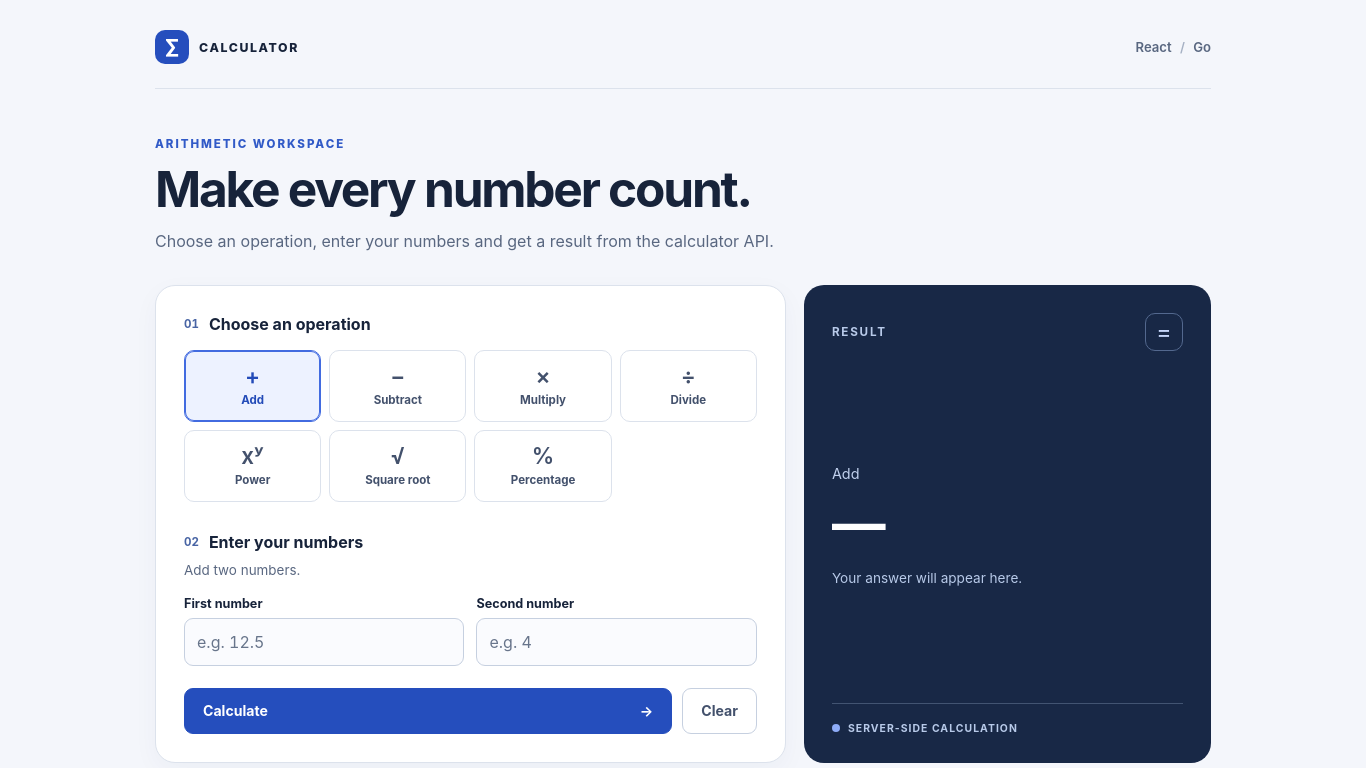
Test: calculator interface › submits two operands and renders the backend result
This screenshot has width=1366, height=768.
Step 1. Type "7.5" into the field labelled "First number" → (324,642), box [184,618,464,666]
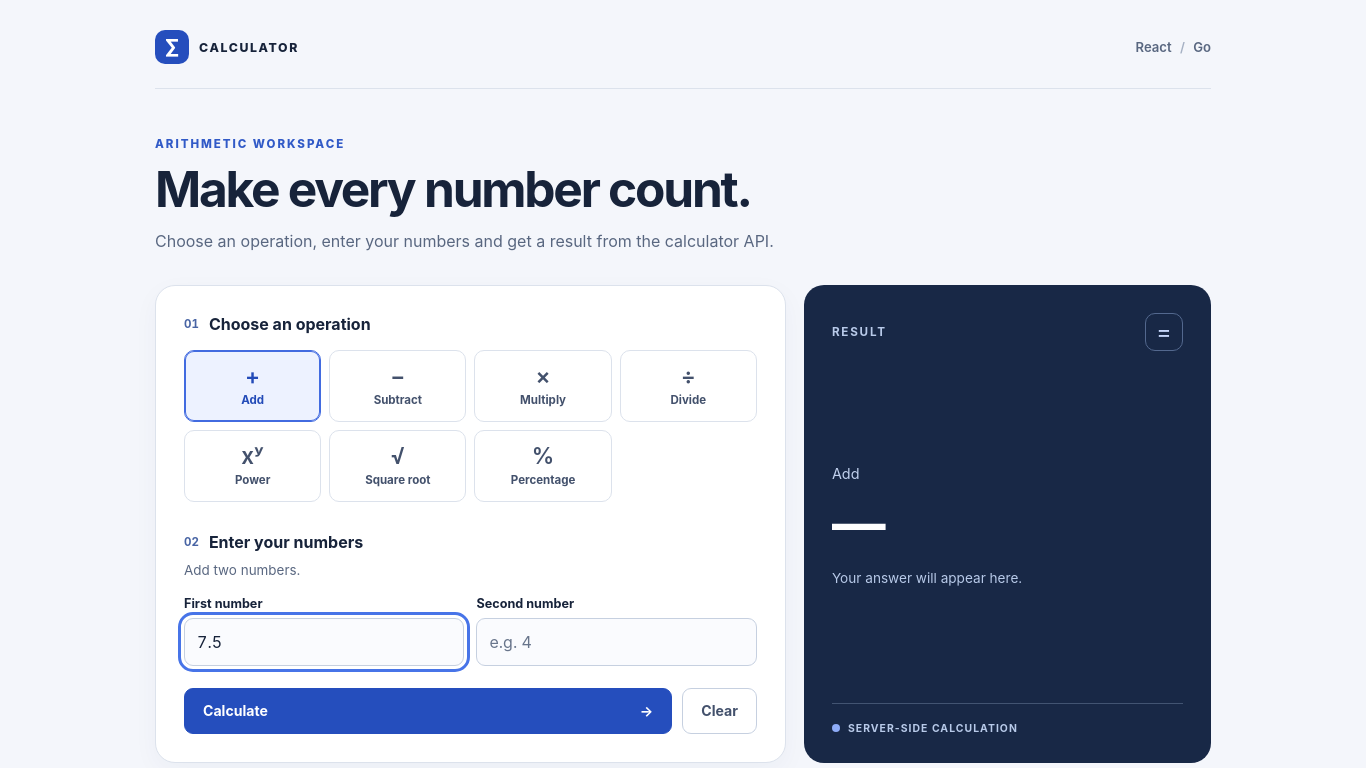
Step 2. Type "7.5" into the field labelled "Second number" → (617,642), box [476,618,757,666]
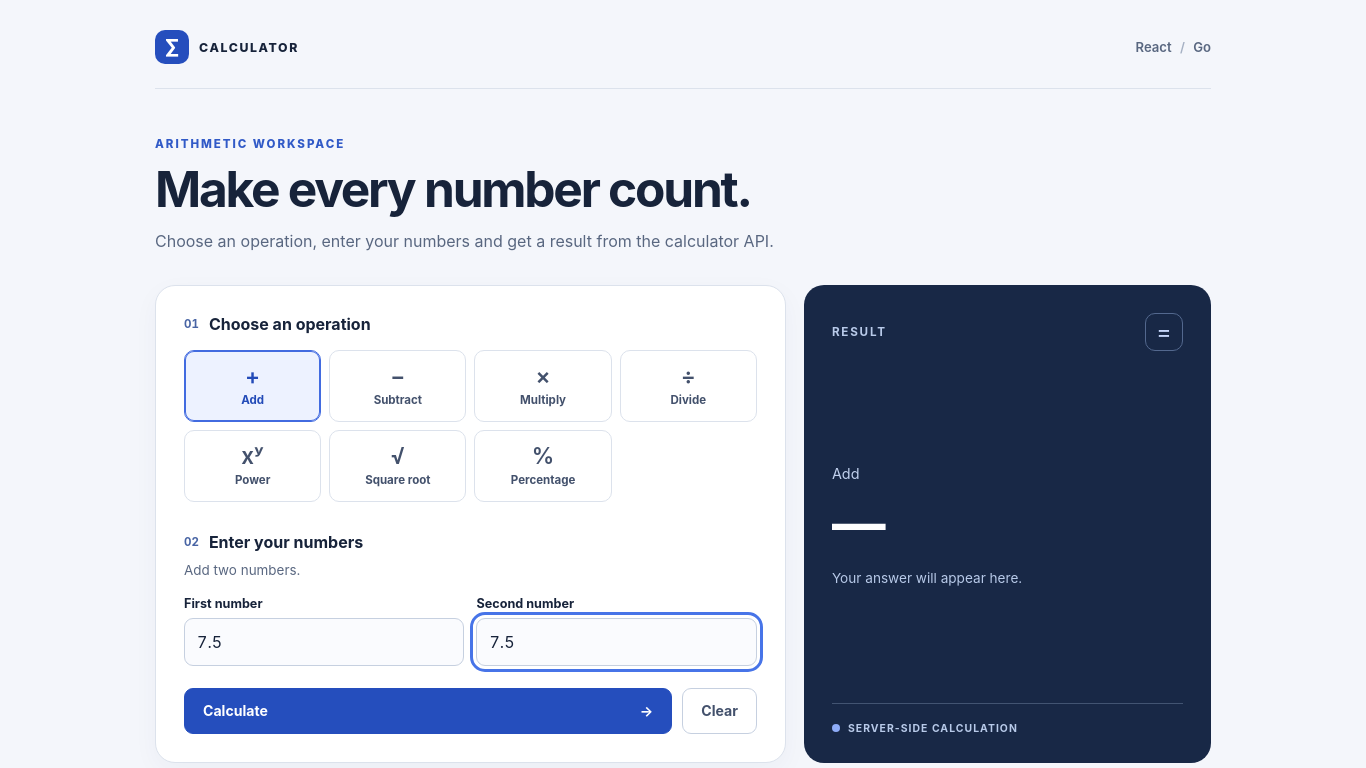
Step 3. Click the button "Calculate →" → (235,711), box [184,688,672,734]
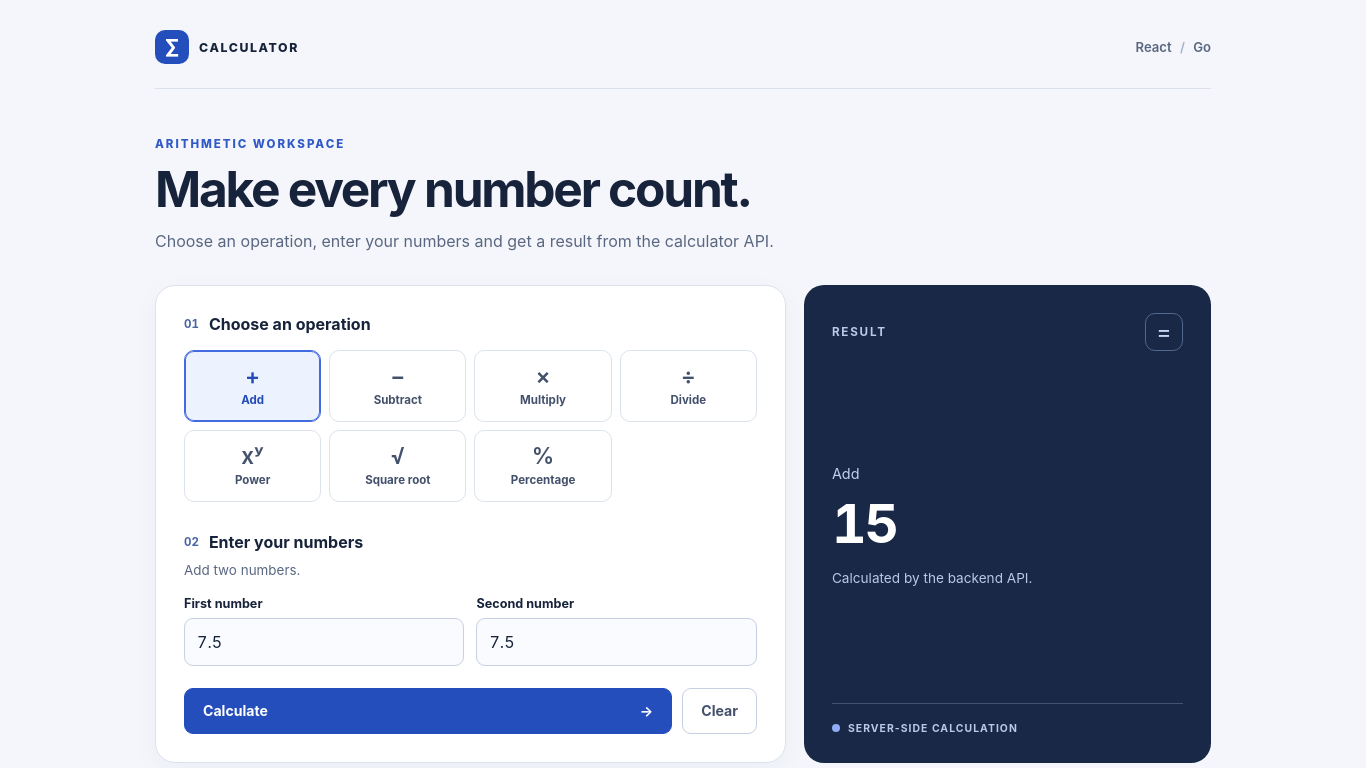
Check: the text named "Result" reads "15", box [832,491,897,556]
